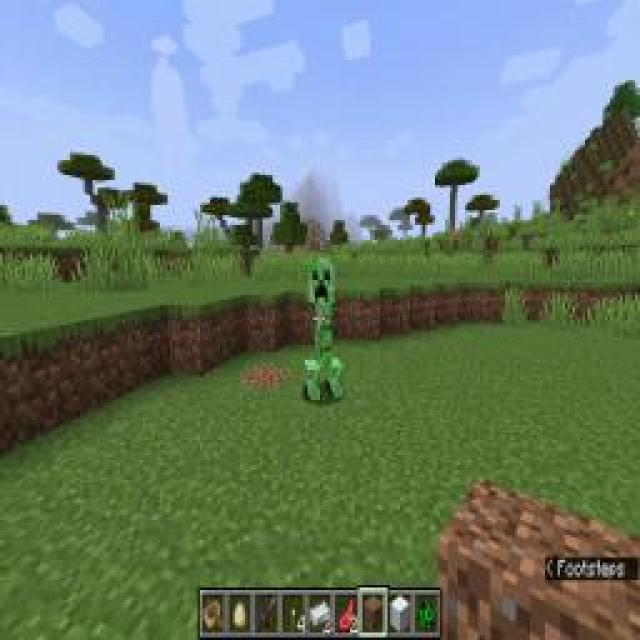Creeper: (302, 253, 346, 405)
